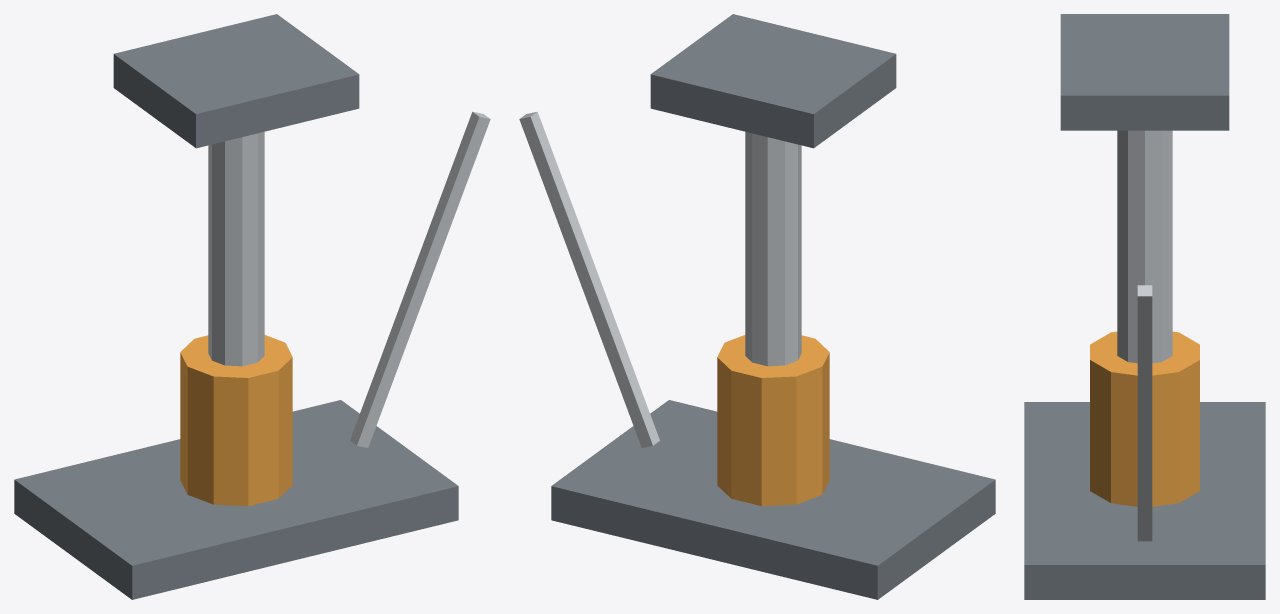
File: mech-hangar-and-battle-frames-hydraulic-jack-9746c4c3__26966.glb
3 views of the same model, side by side, from view 1: azimuth 30°, elevation 25°; view 2: azimuth 150°, elevation 25°; view 3: azimuth 270°, elevation 25° (orthographic). The views are drawn at different scales.
Visible parts, largest first — view 1: hydraulic-jack; view 2: hydraulic-jack; view 3: hydraulic-jack.
Part boxes in pixels (<box>): hydraulic-jack: <box>14,14,490,599</box>; hydraulic-jack: <box>519,14,995,599</box>; hydraulic-jack: <box>1024,14,1265,599</box>.
Bounding box in the file's own units: 1.01 × 1.06 × 0.5.
